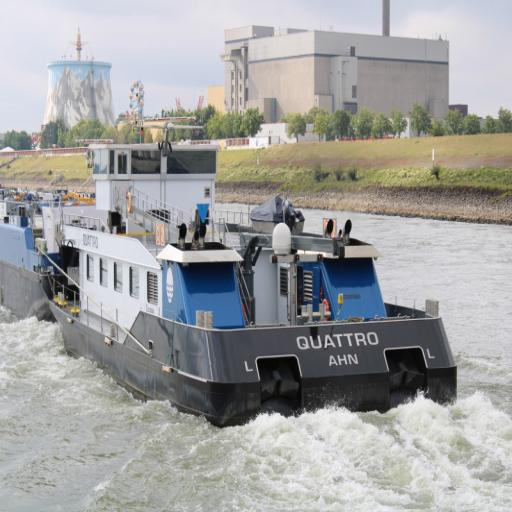tugboat: (39, 110, 464, 436)
